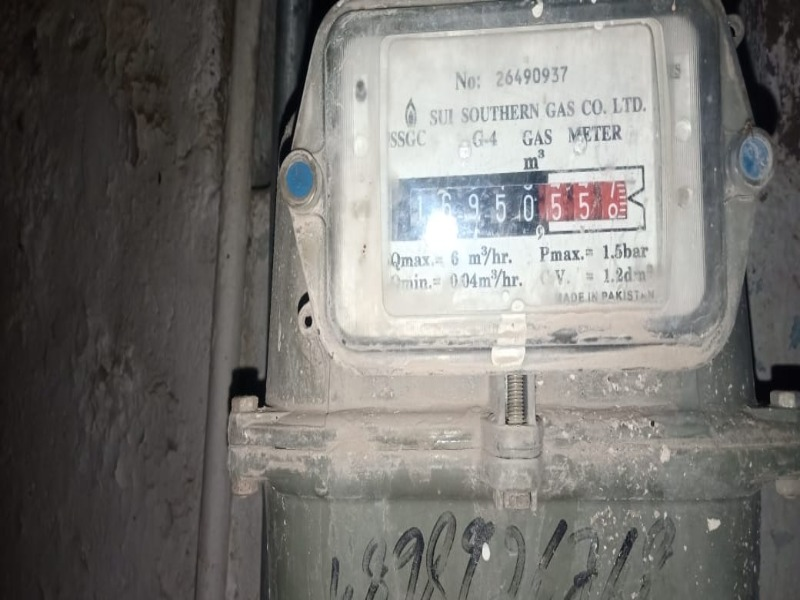ssgc: (399, 175, 636, 232)
